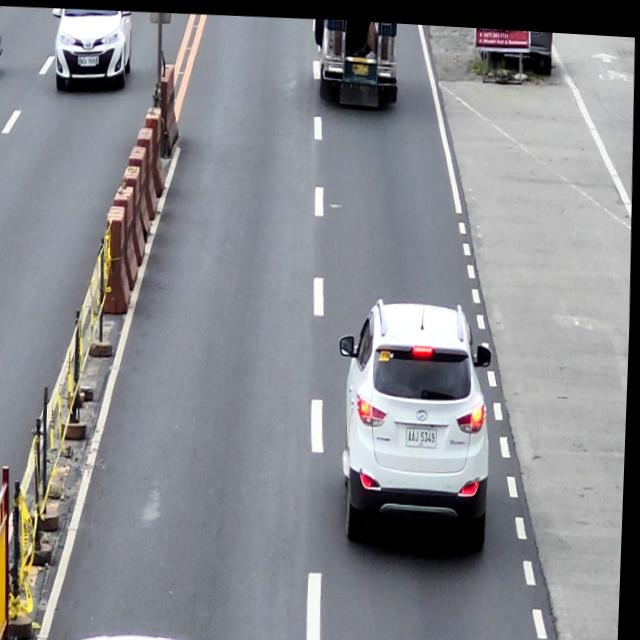Car: (336, 288, 500, 553)
Jeep: (310, 15, 399, 107)
License-Plate: (408, 422, 439, 443), (351, 58, 370, 71)
